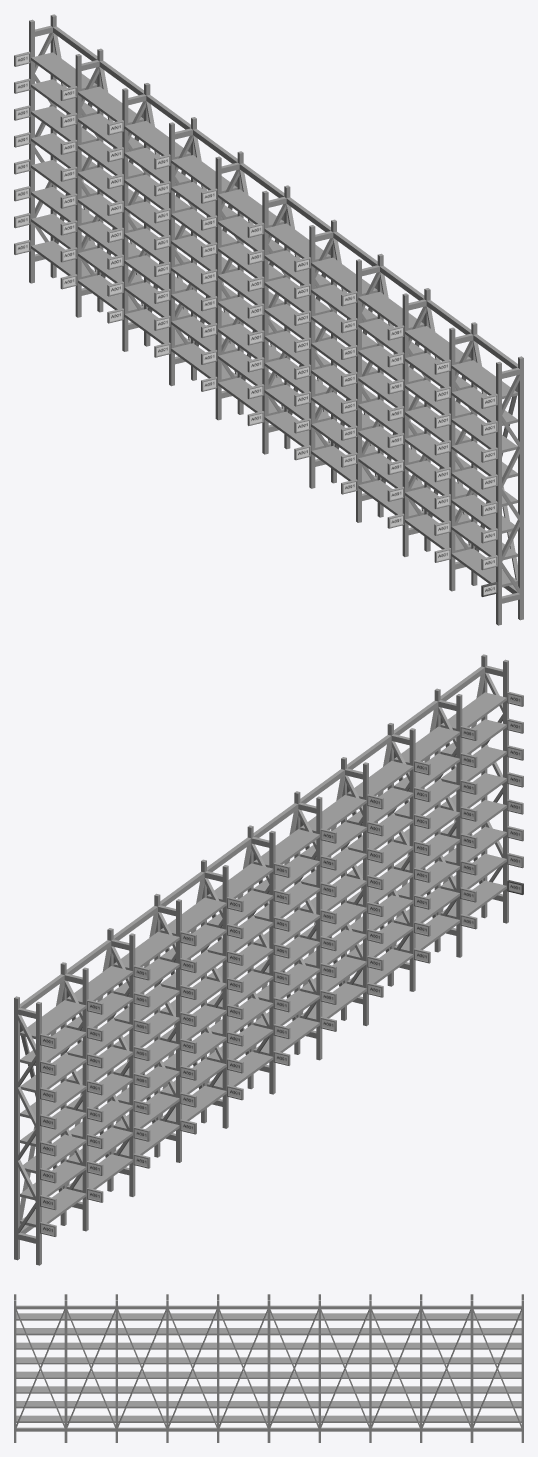
The model's file is hyller_skilt_UV-mappet.fbx.
3 renders of one model, top to bottom at view 1: azimuth 30°, elevation 25°; view 2: azimuth 150°, elevation 25°; view 3: azimuth 270°, elevation 25°, orthographic. The views are drawn at different scales.
Parts seen in each view (by area): view 1: pCube89, pCube88, polySurface185; view 2: pCube89, pCube88, polySurface185; view 3: pCube89, pCube88.
Boxes of the visible parts, x1,y1,x2,y2 form: pCube89: (31, 52, 517, 587); pCube88: (29, 14, 523, 625); polySurface185: (14, 51, 497, 596); pCube89: (20, 692, 506, 1227); pCube88: (14, 654, 508, 1265); polySurface185: (40, 691, 523, 1236); pCube89: (16, 1313, 521, 1422); pCube88: (14, 1294, 523, 1442).
Bounding box in the file's own units: 83.91 × 511 × 1662.
